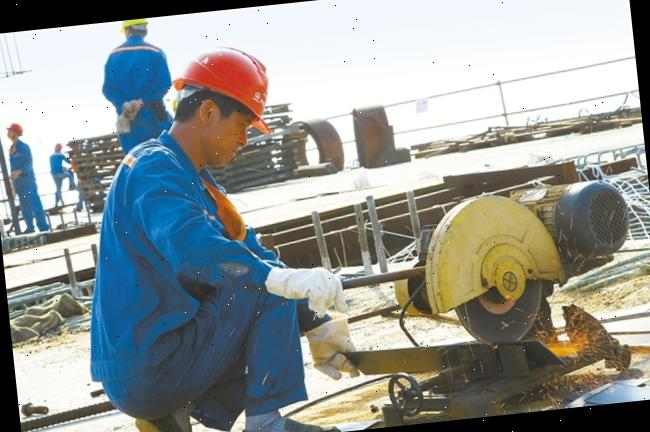helmet: (168, 39, 283, 128), (117, 17, 152, 35), (2, 120, 24, 136)
wear: (93, 160, 268, 388), (102, 38, 170, 126), (6, 142, 33, 182)
